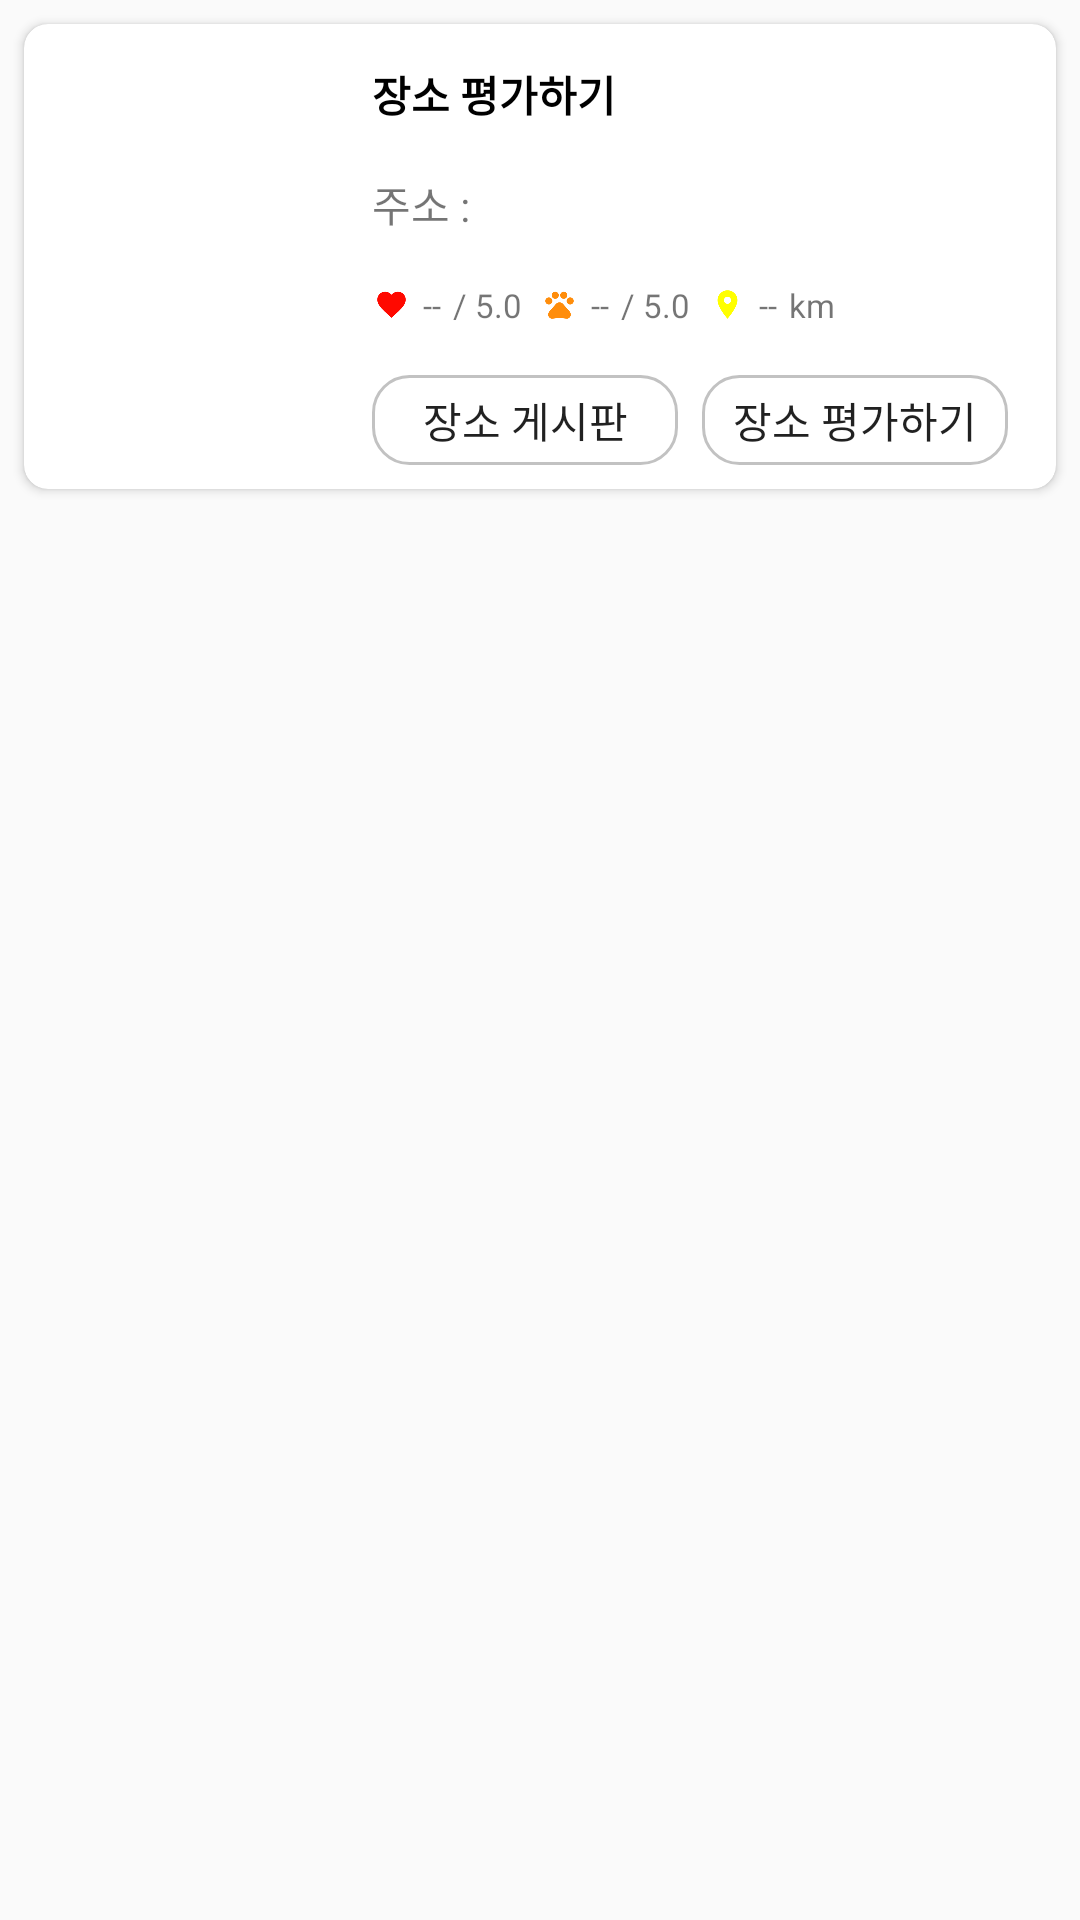

Icons on this 1080*1920 Android screen, each with its box as [x1=x1, y1=y1, x2=x2, y2=y2]:
heart: [x1=377, y1=291, x2=406, y2=318]
location: [x1=717, y1=290, x2=738, y2=319]
pet: [x1=545, y1=291, x2=574, y2=319]
